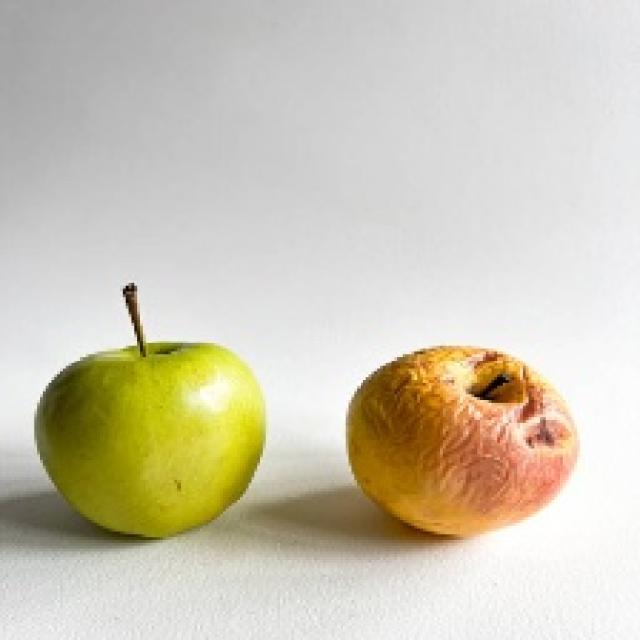rotten_apple: (347, 350, 574, 530)
